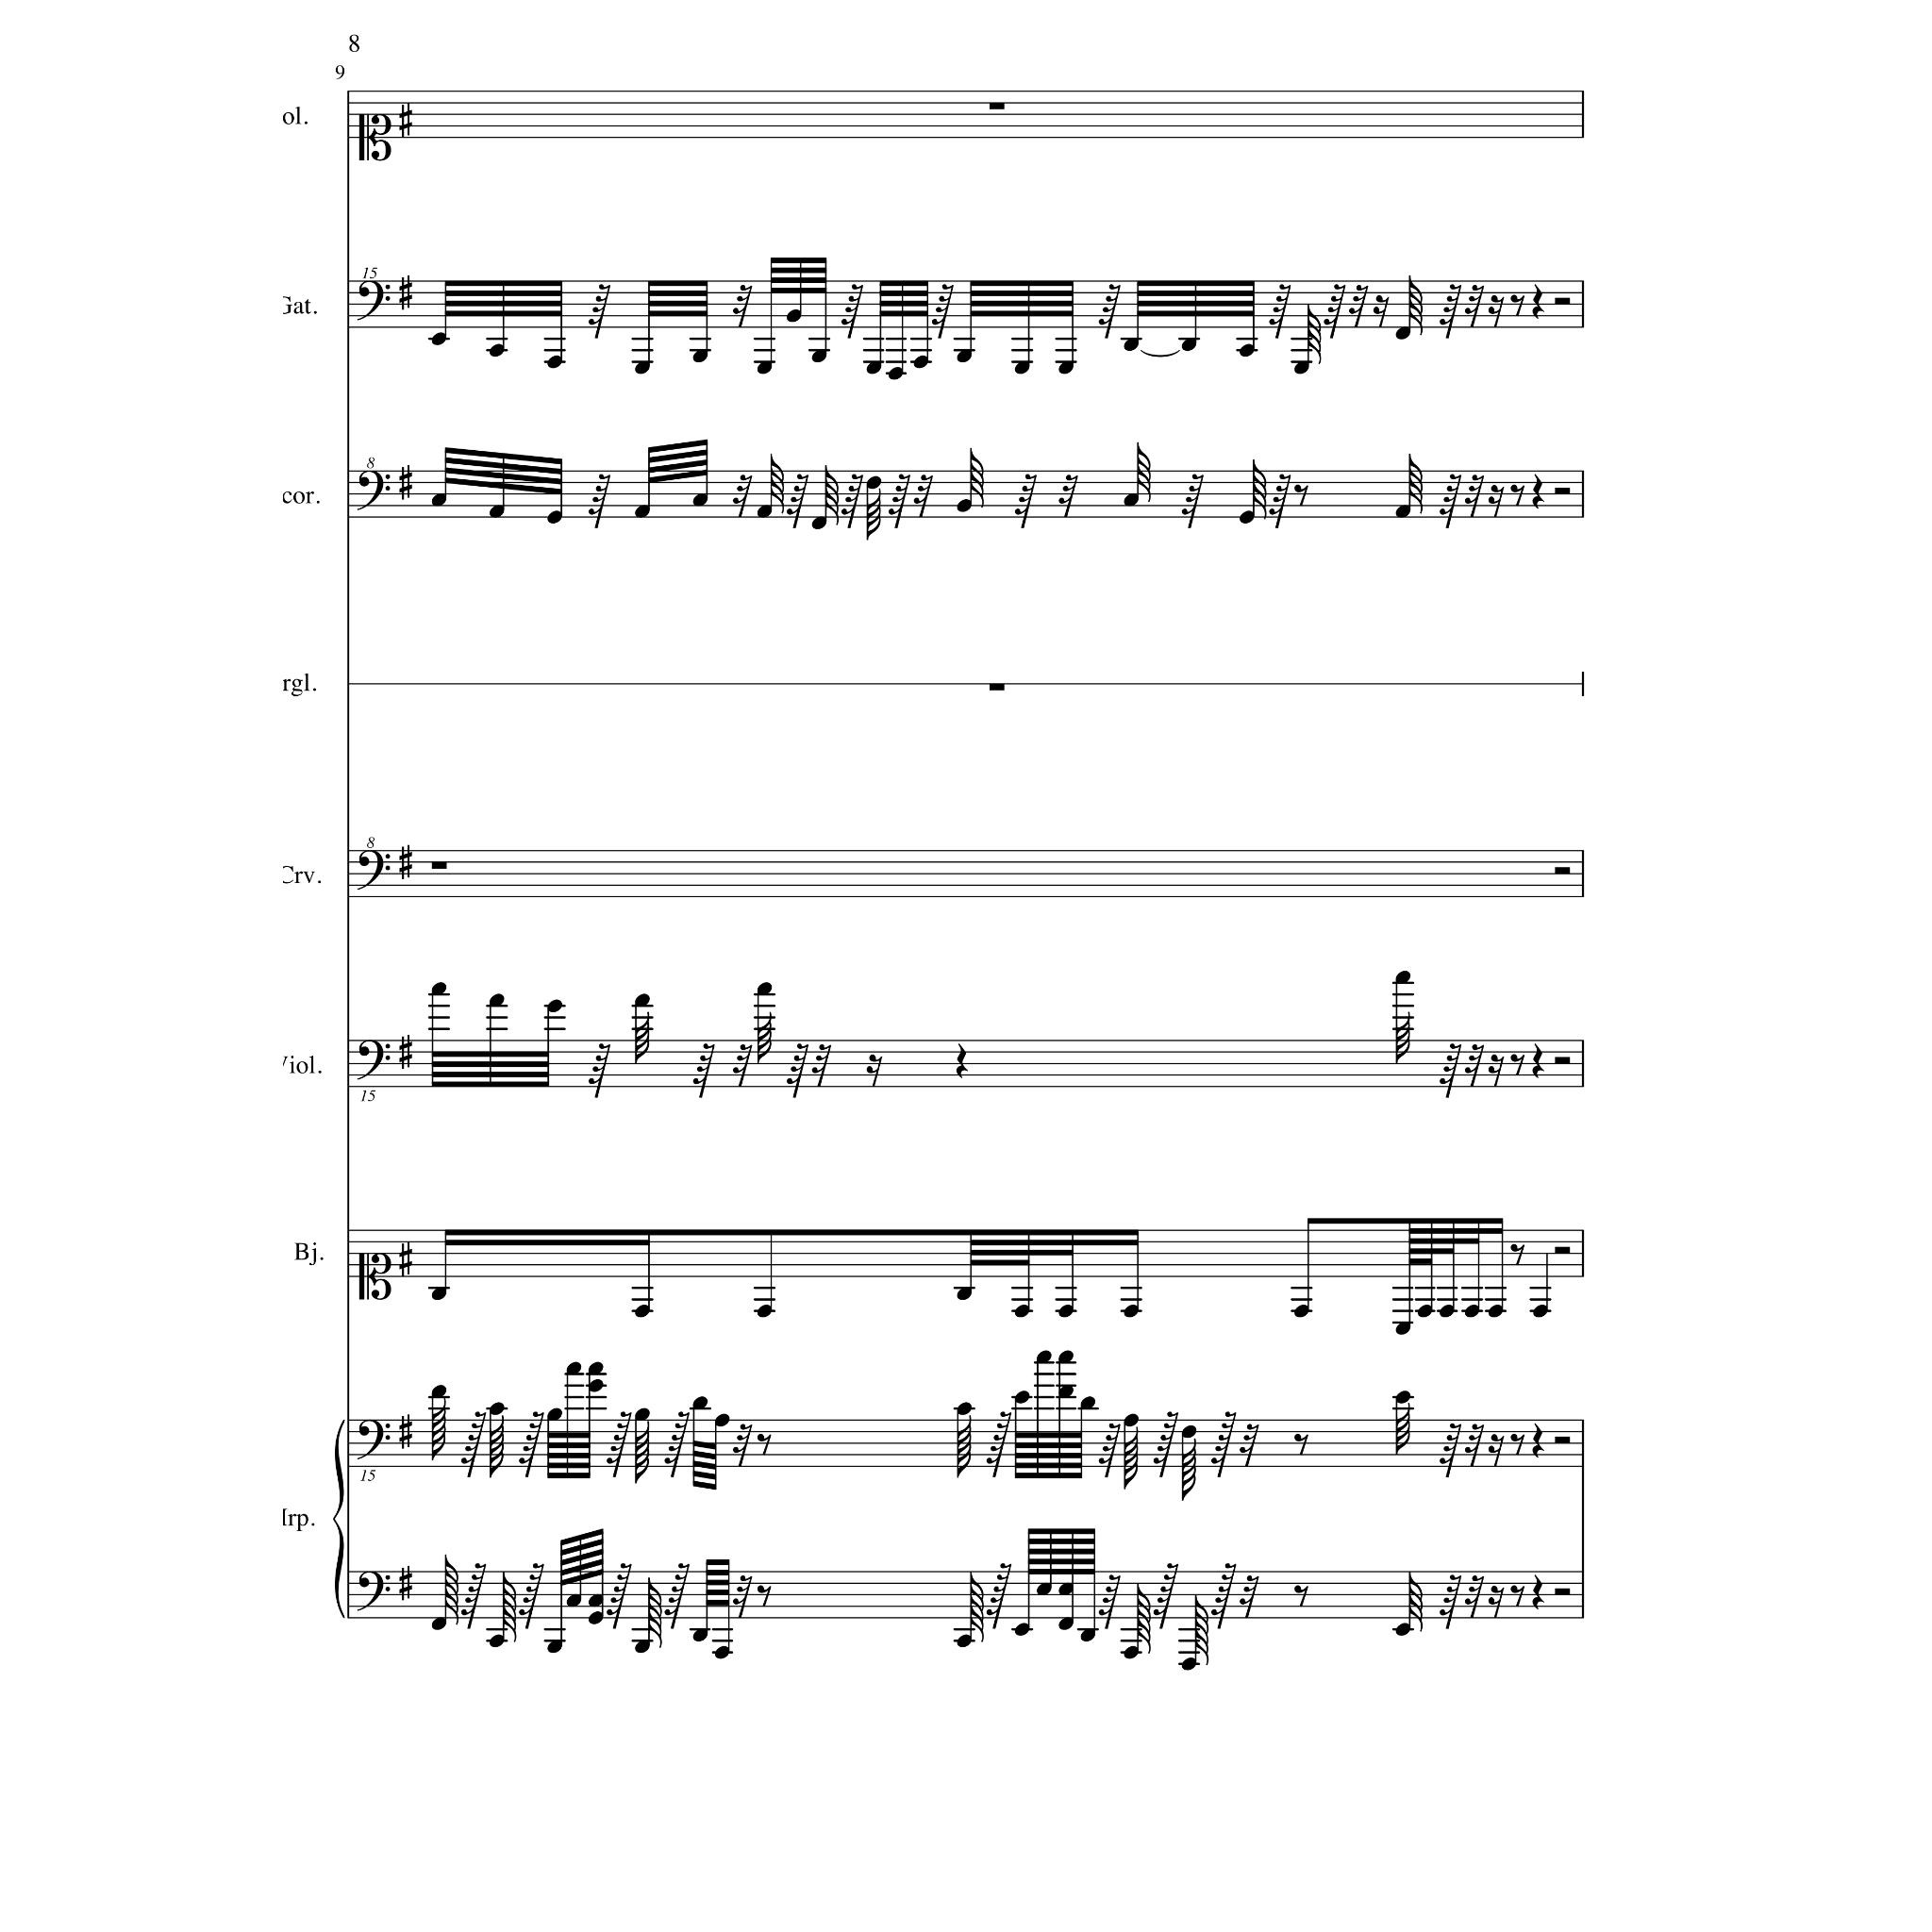brace: (333, 1419, 345, 1621)
fClef: (357, 471, 391, 511), (357, 1571, 391, 1612), (357, 1419, 391, 1460), (357, 1040, 391, 1081), (357, 851, 391, 892), (357, 281, 391, 322)
flag128thDown: (1123, 1426, 1139, 1490), (488, 1415, 504, 1477), (1182, 1438, 1196, 1502), (432, 1398, 446, 1461), (635, 1421, 649, 1483), (957, 1415, 971, 1477)
flag128thUp: (1194, 1596, 1208, 1667), (1138, 1583, 1152, 1654), (502, 1573, 517, 1644), (648, 1578, 662, 1649), (446, 1555, 458, 1626), (971, 1573, 984, 1644)
flag64thDown: (1396, 1401, 1410, 1454), (867, 488, 881, 541), (1396, 1012, 1410, 1063), (635, 1012, 649, 1063), (757, 1012, 771, 1063)
flag64thUp: (1408, 453, 1422, 515), (824, 465, 839, 527), (1253, 460, 1267, 520), (1408, 276, 1422, 336), (1307, 304, 1322, 364), (1138, 442, 1152, 502), (1408, 1571, 1422, 1631), (771, 453, 784, 515), (971, 448, 984, 508)
noteheadBlack: (1238, 510, 1254, 524), (1180, 338, 1196, 352), (1394, 970, 1410, 984), (1293, 1304, 1309, 1318), (1293, 361, 1309, 375), (1058, 1304, 1074, 1318), (1058, 361, 1074, 375), (1014, 1304, 1030, 1318), (1014, 361, 1030, 375), (1123, 1645, 1139, 1660), (1123, 1414, 1139, 1428), (1123, 1304, 1139, 1318), (1123, 338, 1139, 352), (1079, 1396, 1095, 1410), (1079, 1628, 1095, 1642), (1532, 1304, 1548, 1318), (1465, 1304, 1481, 1318), (1417, 1304, 1433, 1318), (1438, 1304, 1454, 1318), (1488, 1304, 1504, 1318), (566, 1594, 582, 1608), (566, 1362, 582, 1376), (547, 1640, 563, 1654), (547, 1408, 563, 1422), (547, 1000, 563, 1014), (547, 510, 563, 524), (633, 1408, 649, 1422), (633, 1640, 649, 1654), (633, 1304, 649, 1318), (633, 993, 649, 1007), (633, 361, 649, 375), (587, 1594, 603, 1608), (587, 1362, 603, 1376), (488, 1635, 504, 1649), (488, 1403, 504, 1417), (488, 993, 504, 1007), (430, 982, 446, 996), (430, 333, 446, 347), (865, 476, 881, 490), (865, 361, 881, 375), (786, 310, 801, 324), (810, 517, 826, 531), (955, 499, 971, 513), (955, 1403, 971, 1417), (955, 1635, 971, 1649), (713, 1645, 729, 1660), (713, 1414, 729, 1428), (692, 1396, 708, 1410), (692, 1628, 708, 1642), (755, 361, 771, 375), (755, 982, 771, 996), (755, 1304, 771, 1318), (888, 366, 902, 380), (1238, 345, 1254, 357), (1180, 1658, 1196, 1670), (1180, 1426, 1196, 1438), (1394, 327, 1410, 340), (1394, 506, 1410, 518), (1394, 1624, 1410, 1637), (1394, 1391, 1410, 1403), (1394, 1322, 1410, 1334), (1058, 1617, 1074, 1629), (1058, 1352, 1074, 1364), (1058, 1385, 1074, 1398), (1058, 1583, 1074, 1596), (1035, 1583, 1051, 1596), (1014, 1624, 1030, 1637), (1014, 1391, 1030, 1403), (1035, 1352, 1051, 1364), (1123, 494, 1139, 506), (547, 356, 563, 368), (633, 506, 649, 518), (587, 1612, 603, 1624), (587, 1380, 603, 1392), (488, 506, 504, 518), (488, 345, 504, 357), (430, 1288, 446, 1300), (430, 1617, 446, 1629), (430, 1385, 446, 1398), (430, 494, 446, 506), (810, 350, 826, 363), (913, 356, 929, 368), (955, 350, 971, 363), (955, 1288, 971, 1300), (692, 350, 708, 363), (692, 494, 708, 506), (755, 506, 771, 518)
rest16th: (865, 1054, 883, 1088), (1488, 1433, 1504, 1468), (1488, 485, 1504, 518), (1488, 1054, 1504, 1088), (1488, 1585, 1504, 1619), (1373, 295, 1389, 327), (1488, 295, 1504, 327)
rest8th: (1293, 485, 1309, 508), (1293, 1585, 1309, 1608), (1293, 1433, 1309, 1456), (1509, 294, 1525, 317), (1509, 485, 1525, 508), (1509, 1244, 1525, 1267), (1509, 1433, 1525, 1456), (1509, 1585, 1525, 1608), (1509, 1054, 1525, 1076), (757, 1433, 771, 1456), (757, 1585, 771, 1608)
restHalf: (1553, 1587, 1571, 1596), (1553, 1437, 1571, 1444), (1553, 1247, 1571, 1254), (1553, 1056, 1571, 1063), (1553, 867, 1571, 874), (1553, 488, 1571, 495), (1553, 297, 1571, 304)
restQuarter: (1532, 283, 1545, 320), (1532, 1044, 1545, 1079), (1532, 474, 1545, 510), (1532, 1422, 1545, 1458), (1532, 1575, 1545, 1610), (955, 1044, 968, 1079)
restWhole: (430, 862, 446, 870), (989, 685, 1005, 692), (989, 103, 1005, 110)
